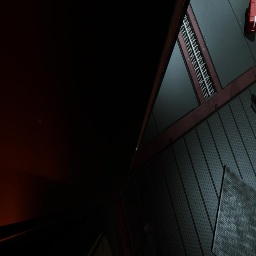FirstAidBox ,: (246, 0, 256, 33)
